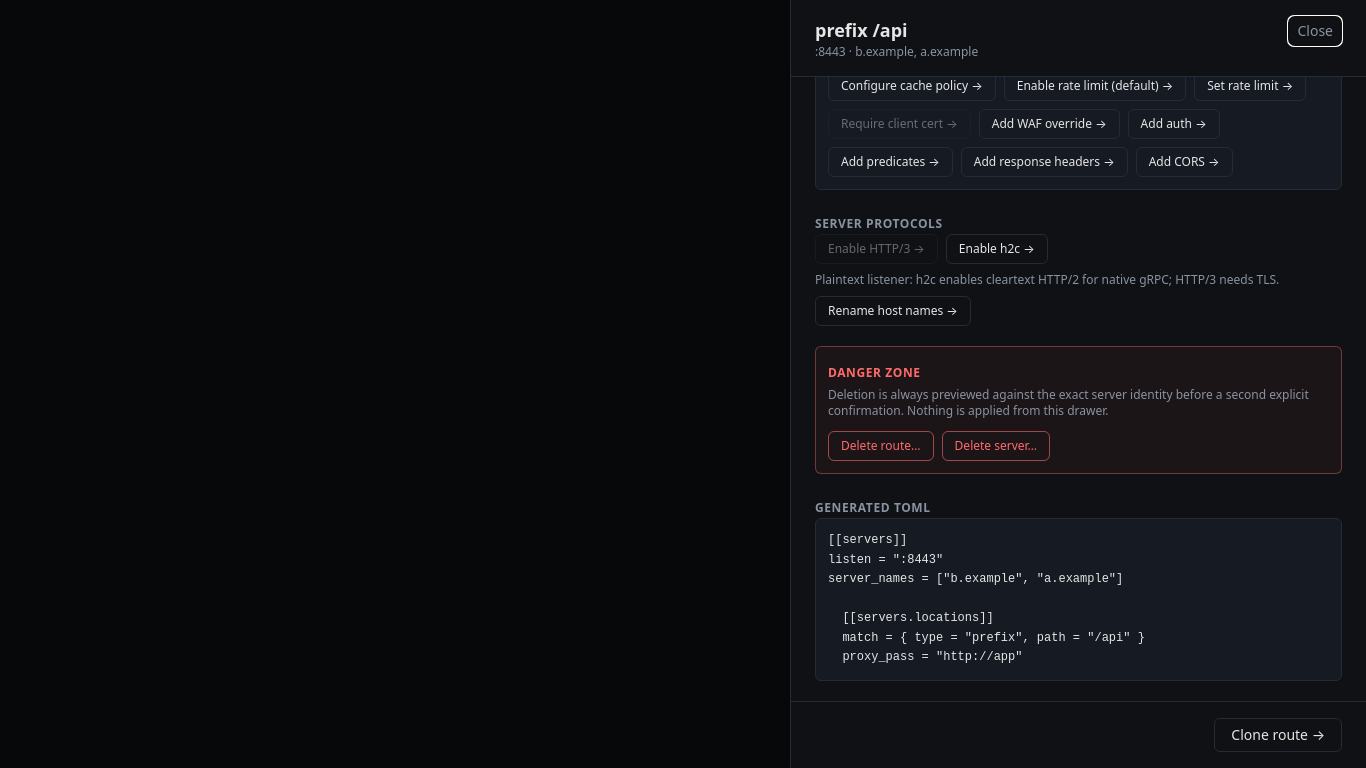
RouteDetail destructive route workflows › previews an exact location_remove and cancel performs no handoff or apply
(page scrolled)
Click the button with aria-label "Delete route prefix /api from :8443 · a.example, b.example" at x=881, y=446, box [828,431,934,461]
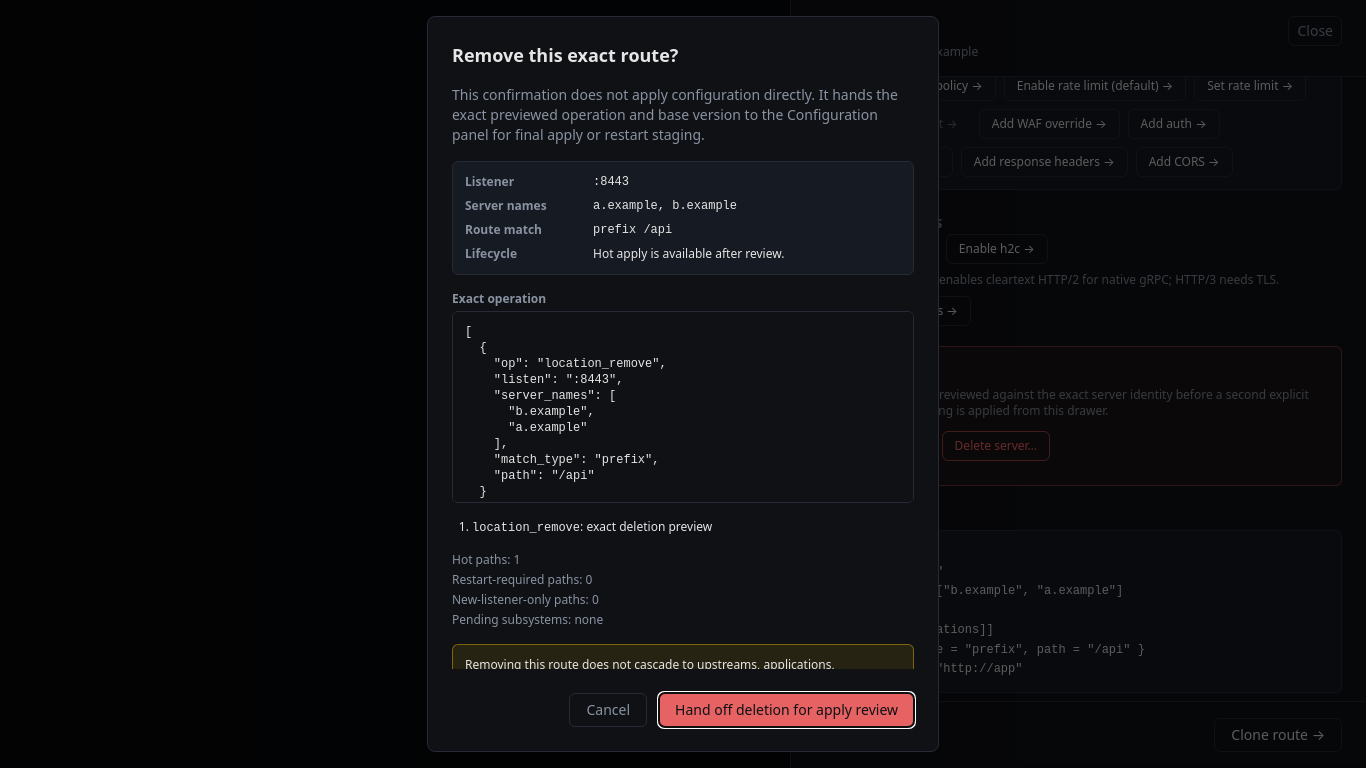
Expected: the text "prefix /api" is shown, [593,223,672,237]
Expected: the text "Hot apply is available after review." is shown, [593,245,784,262]
Click the button "Cancel" at x=608, y=710, box [570,693,647,727]
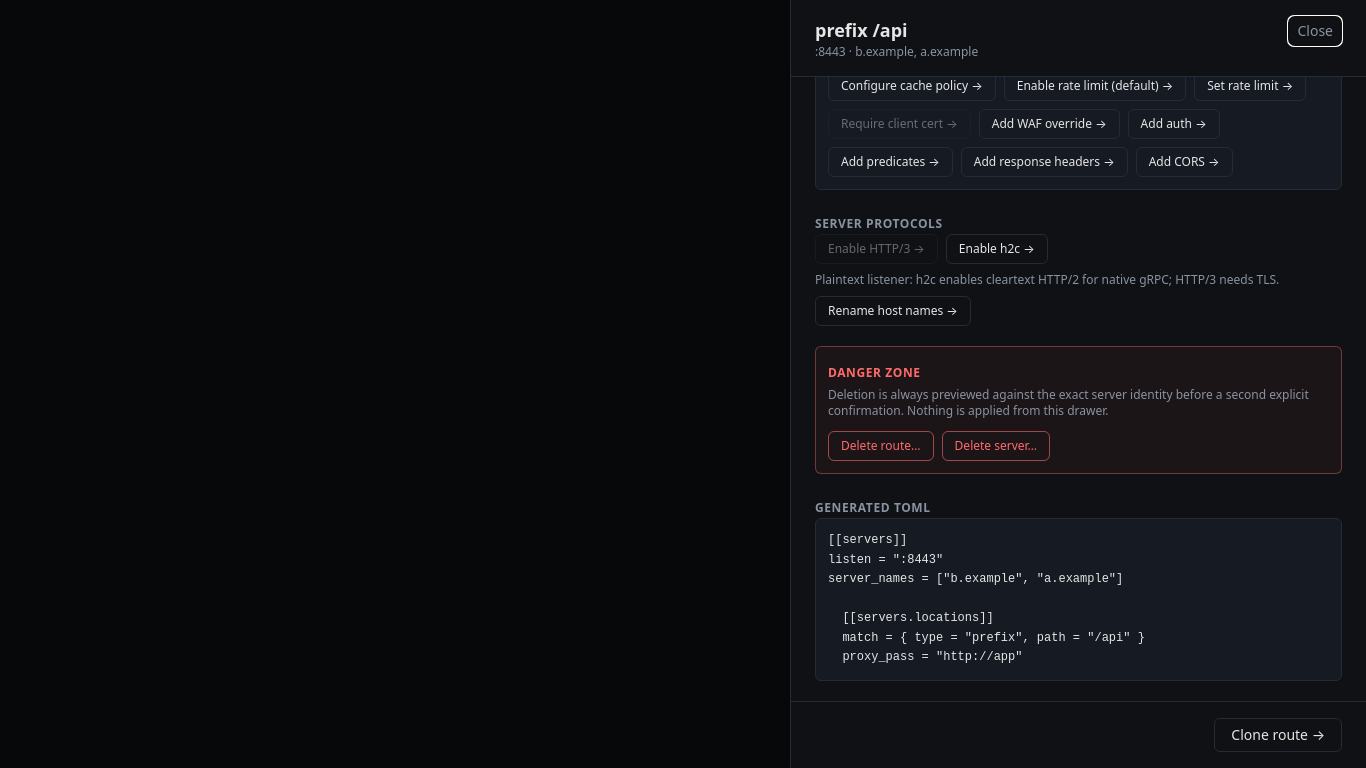
Expected: the heading "Remove this exact route?" is gone
